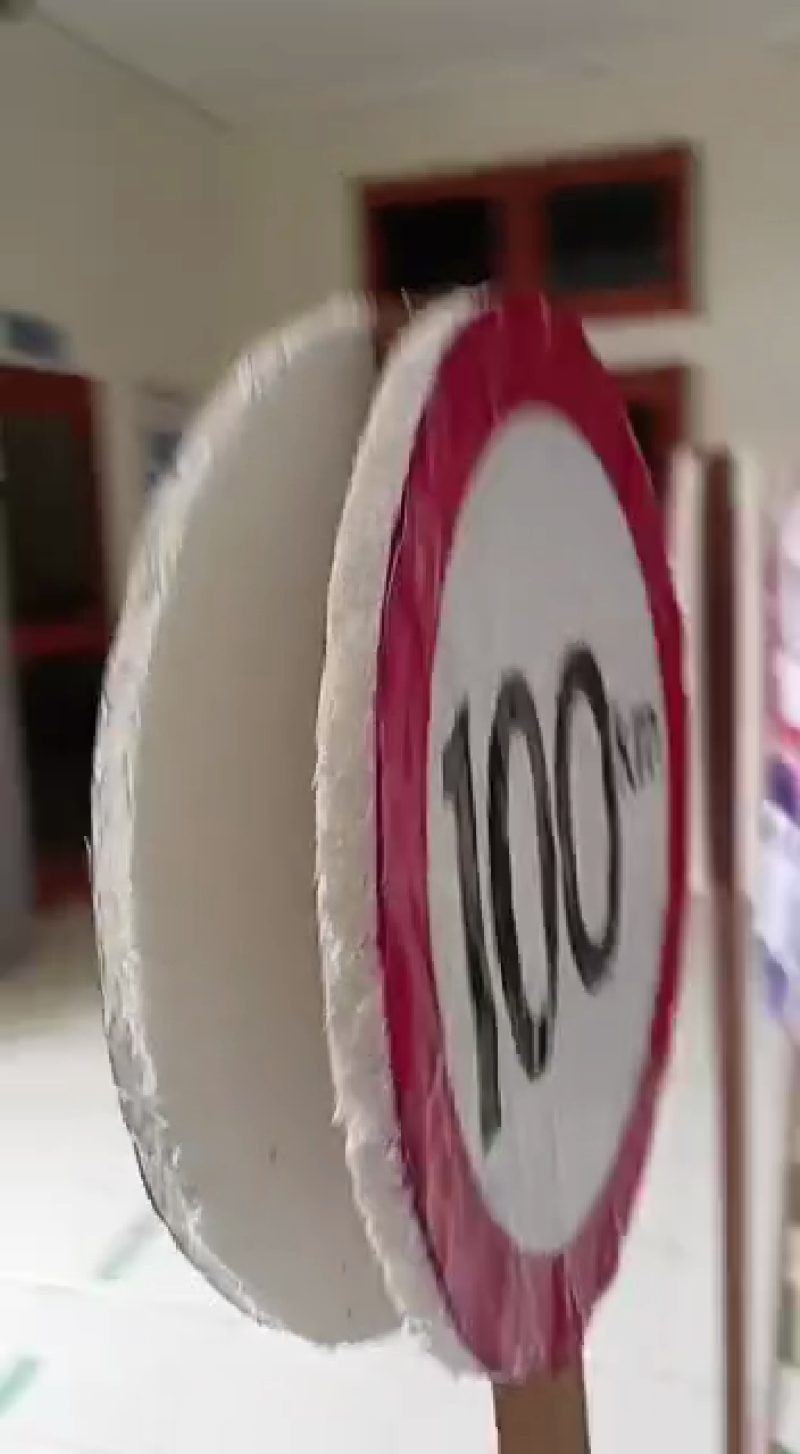batas maksimal 100kmperjam: (359, 266, 691, 1385)
